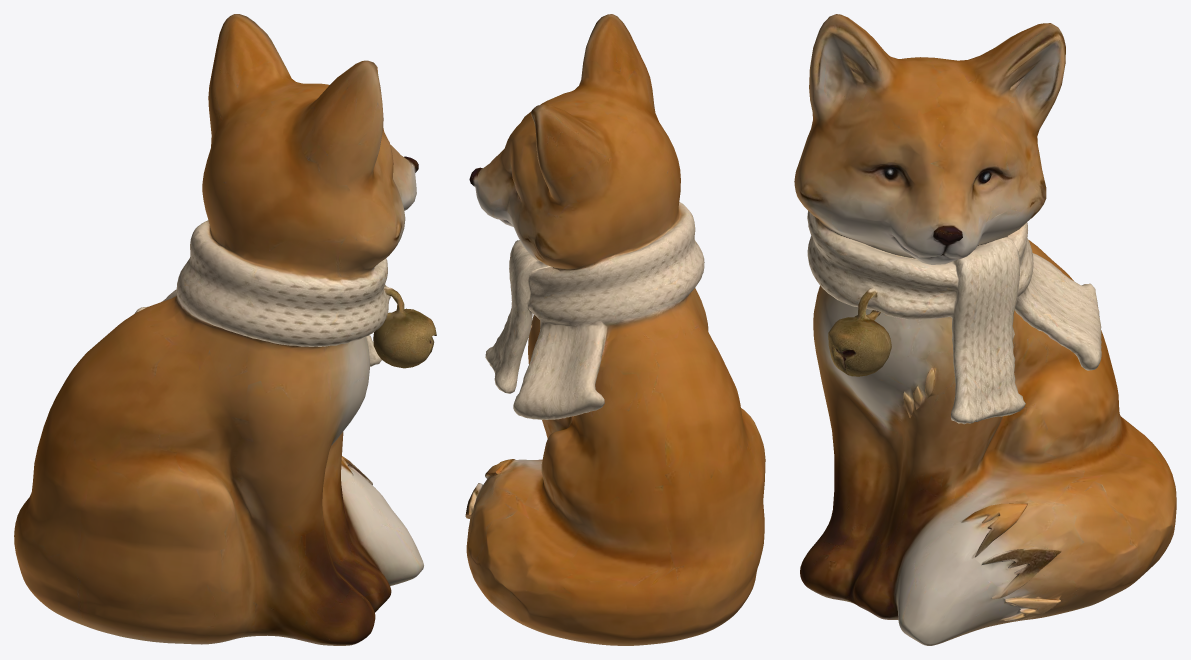
The model's file is fox.glb.
3 views of the same model, side by side, from view 1: azimuth 30°, elevation 25°; view 2: azimuth 150°, elevation 25°; view 3: azimuth 270°, elevation 25° (orthographic). The views are drawn at different scales.
Size of the model in its own units: 1.26 by 2 by 1.17.
1 material, 1 textured.
